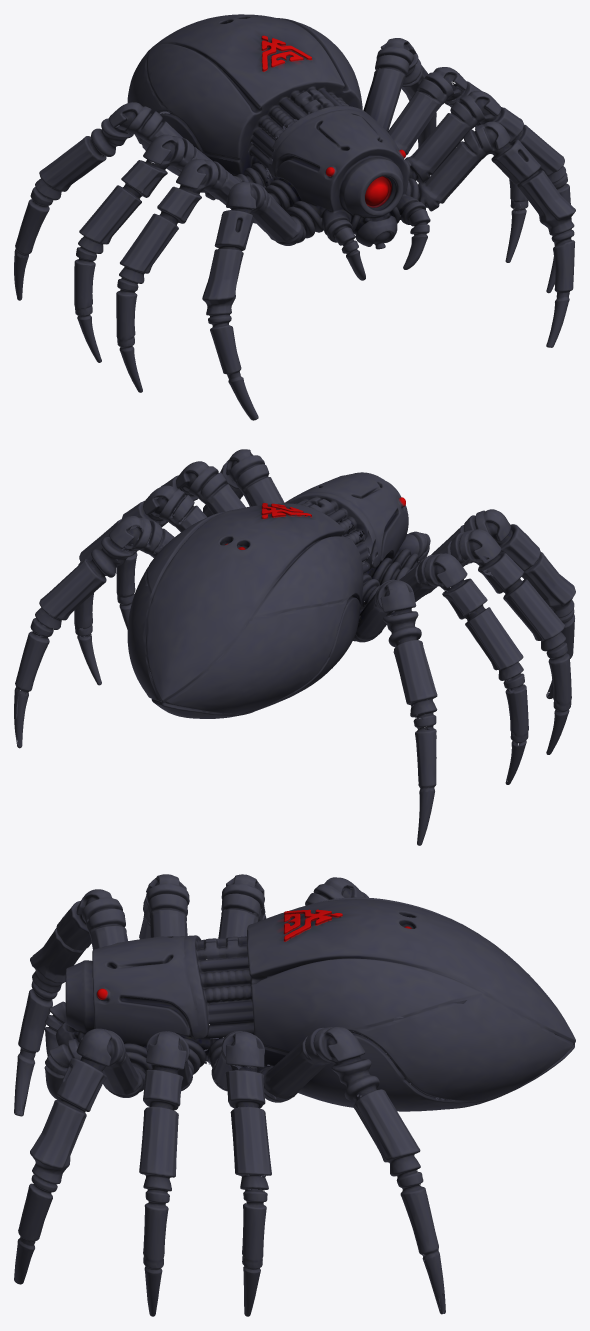
Rendered from spider1full-compressed.glb.
3 views of the same model, one above another, from view 1: azimuth 30°, elevation 25°; view 2: azimuth 150°, elevation 25°; view 3: azimuth 270°, elevation 25° (orthographic). The views are drawn at different scales.
Parts seen in each view (by area): view 1: Object_2.002; view 2: Object_2.002; view 3: Object_2.002.
Boxes of the visible parts, box(x1,y1,x2,y2) form: Object_2.002: box(14, 14, 575, 420); Object_2.002: box(14, 449, 575, 845); Object_2.002: box(14, 874, 575, 1316).
Bounding box in the file's own units: 1.45 × 0.7586 × 1.35.
